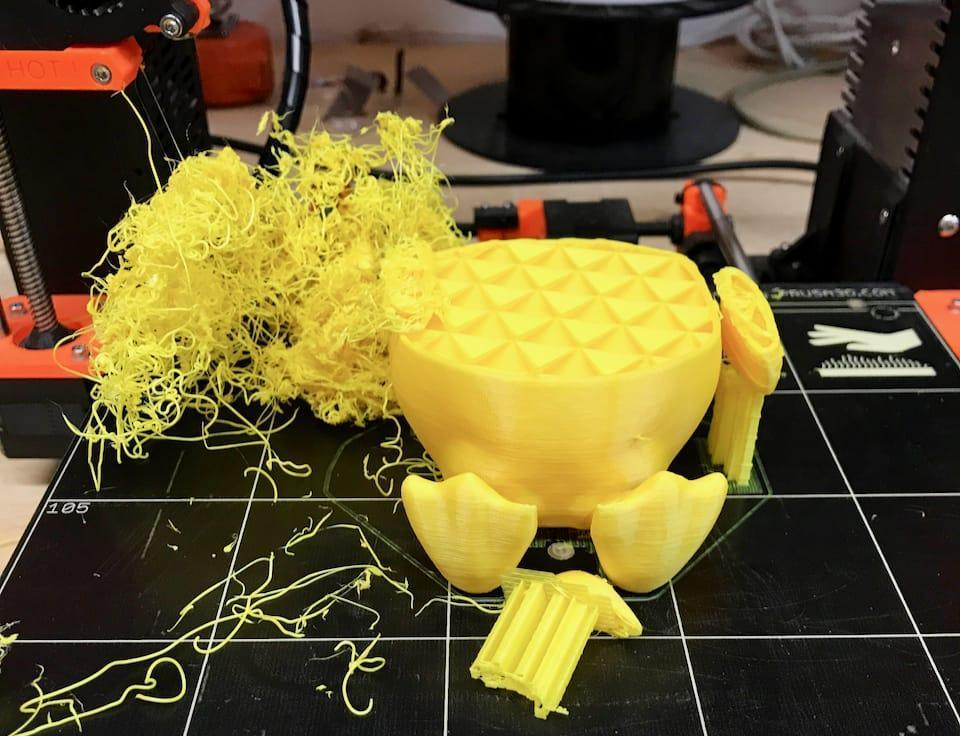Spaghetti: (18, 98, 453, 456)
